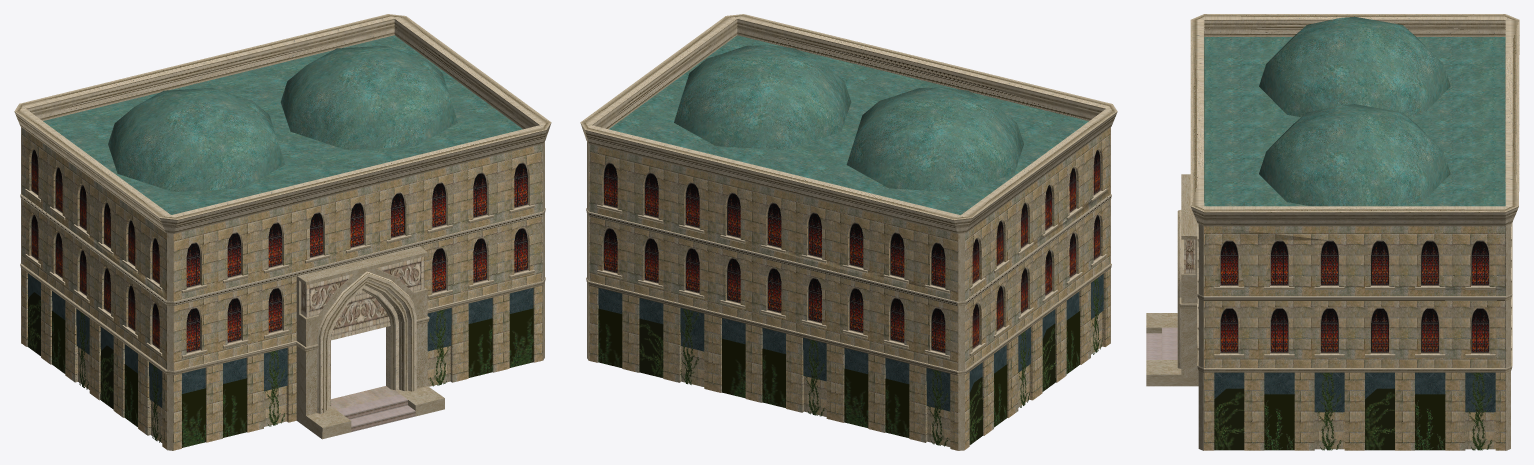
Rendered from ply_nboo_house_m_s02_fp1_r0_mesh_l0.fbx.
The picture shows the model from 3 angles, left to right: view 1: azimuth 30°, elevation 25°; view 2: azimuth 150°, elevation 25°; view 3: azimuth 270°, elevation 25°; orthographic projection. The views are drawn at different scales.
Visible parts, largest first — view 1: mesh_node; view 2: mesh_node; view 3: mesh_node.
Boxes of the visible parts, x1,y1,x2,y2 form: mesh_node: (14, 14, 551, 450); mesh_node: (580, 14, 1117, 450); mesh_node: (1146, 14, 1519, 450).
Bounding box in the file's own units: 18.29 × 12.22 × 14.55.
